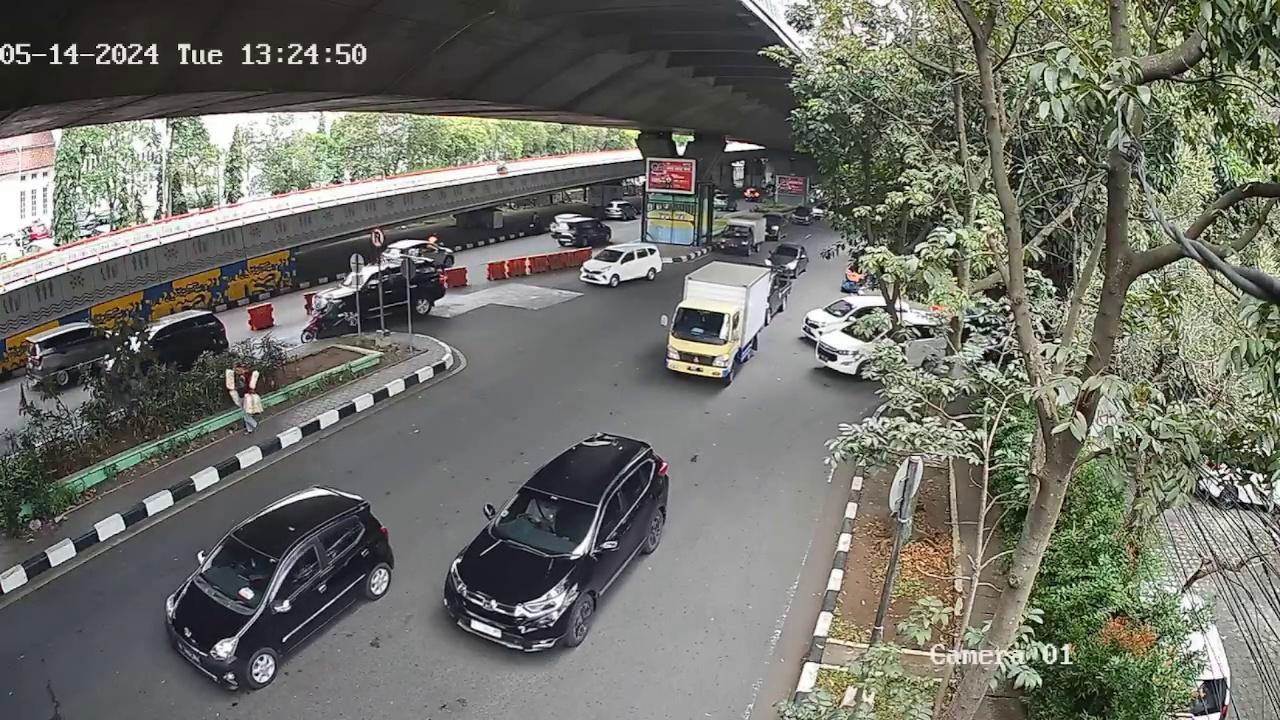pakai: (521, 497, 556, 533)
windshield: (494, 485, 600, 556), (188, 534, 279, 605), (668, 305, 732, 344)
